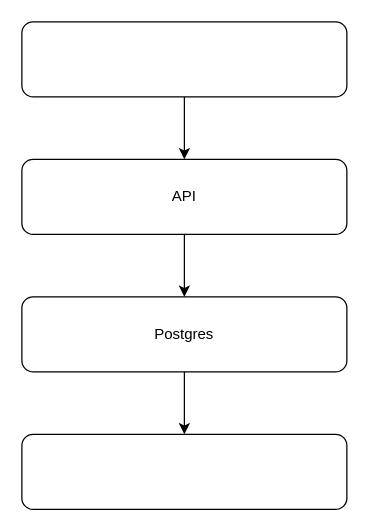
Some shapes in this 369 by 531 pixel diagram are drawn without their labels. The centre of each missing label's shape, as x and y in pixels:
Flutter: point 184,59
Redis: point 184,471
